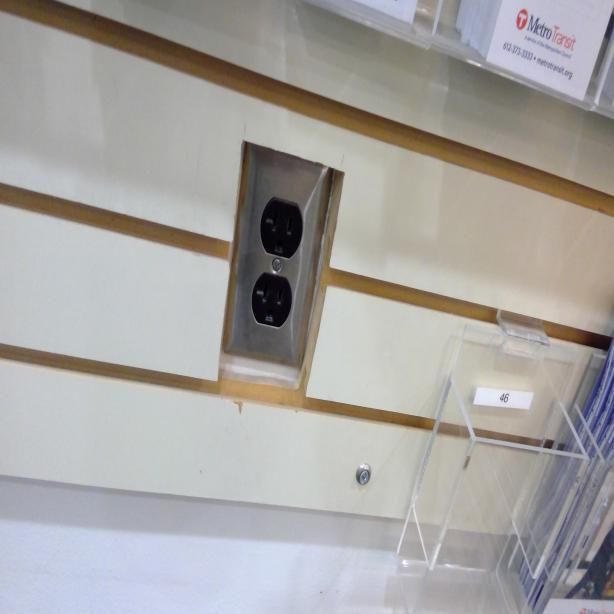typeb: (260, 197, 303, 259), (253, 278, 292, 328)
